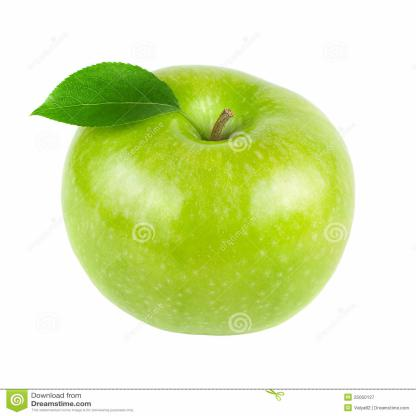Apple leaf: (20, 55, 190, 130)
